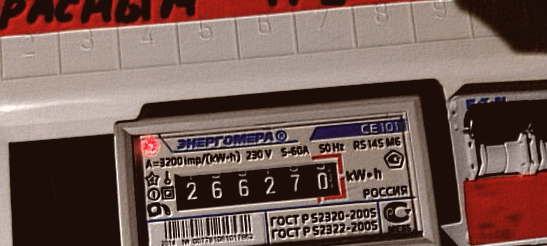0: (315, 169, 329, 191)
2: (184, 179, 199, 201), (262, 174, 276, 196)
6: (210, 179, 224, 200), (236, 177, 250, 197)
7: (287, 172, 302, 194)
screen: (163, 148, 354, 221)
